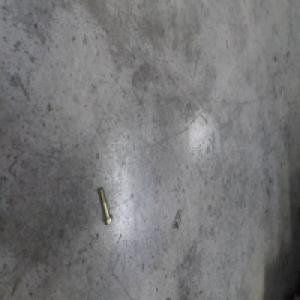Bolt: (96, 186, 113, 227)
